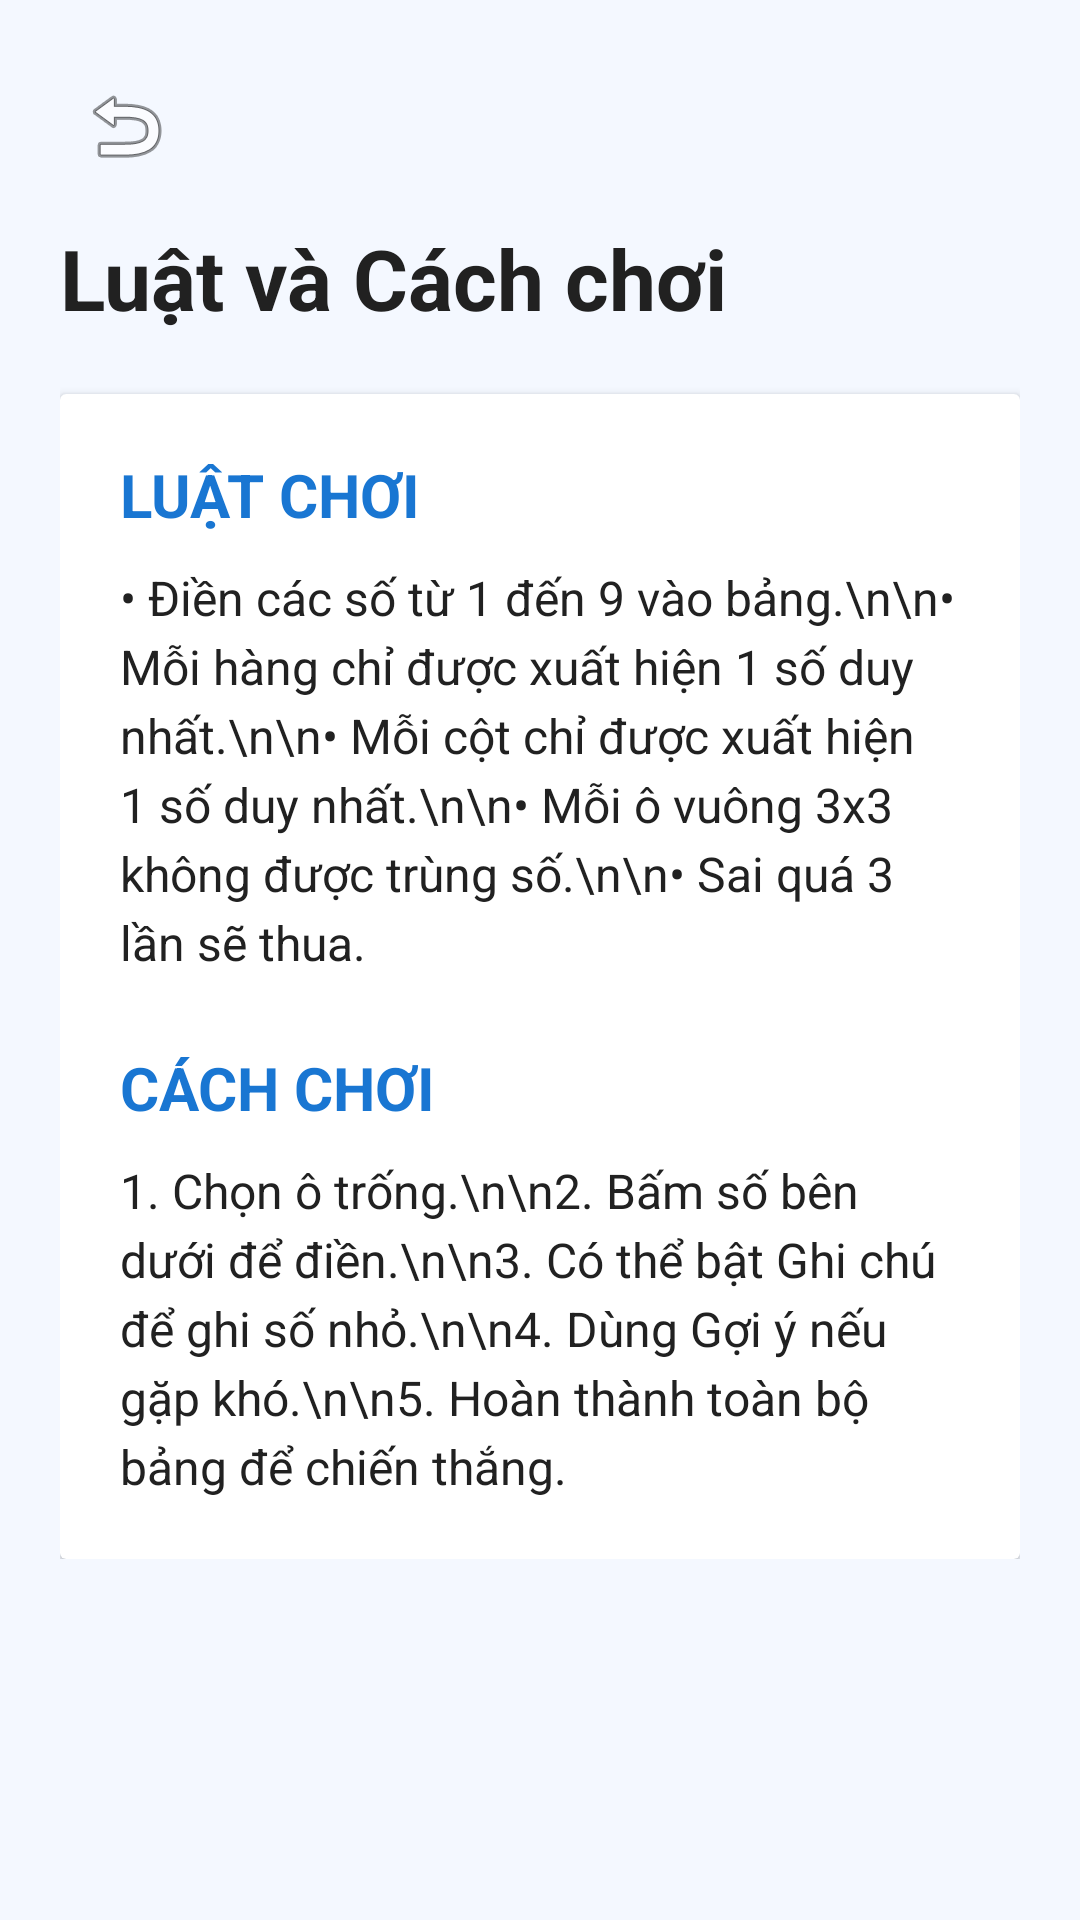

Where to tap for icons on this 1080 × 1920 app screen, as point (x, y):
revert: point (127, 126)
